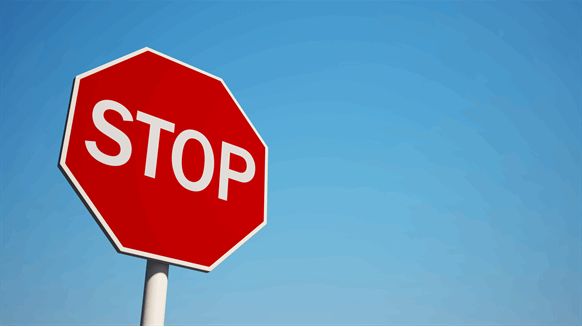stop: (56, 44, 271, 277)
